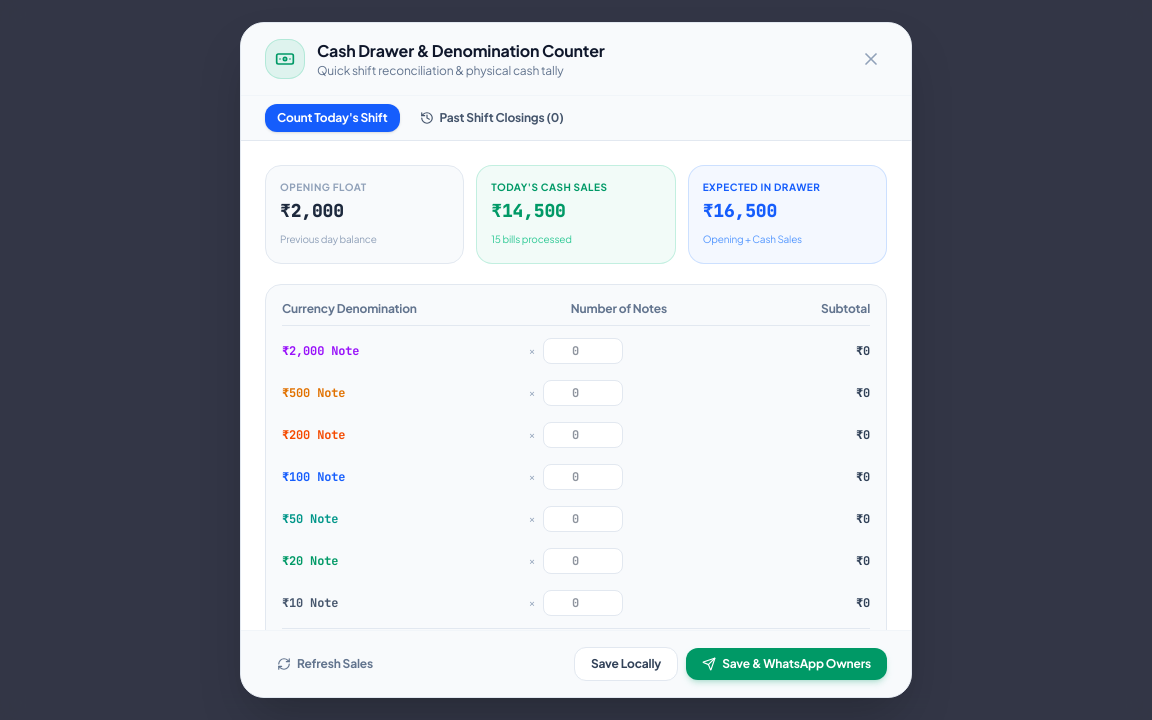
Test: Feature 2: Cash Drawer Denomination Modal › dynamically computes subtotal and physical cash as notes are entered
This screenshot has width=1152, height=720.
In the number field with placeholder "0" in the row of "₹2,000 Note": (583, 351) [543,338,623,364], type "2"
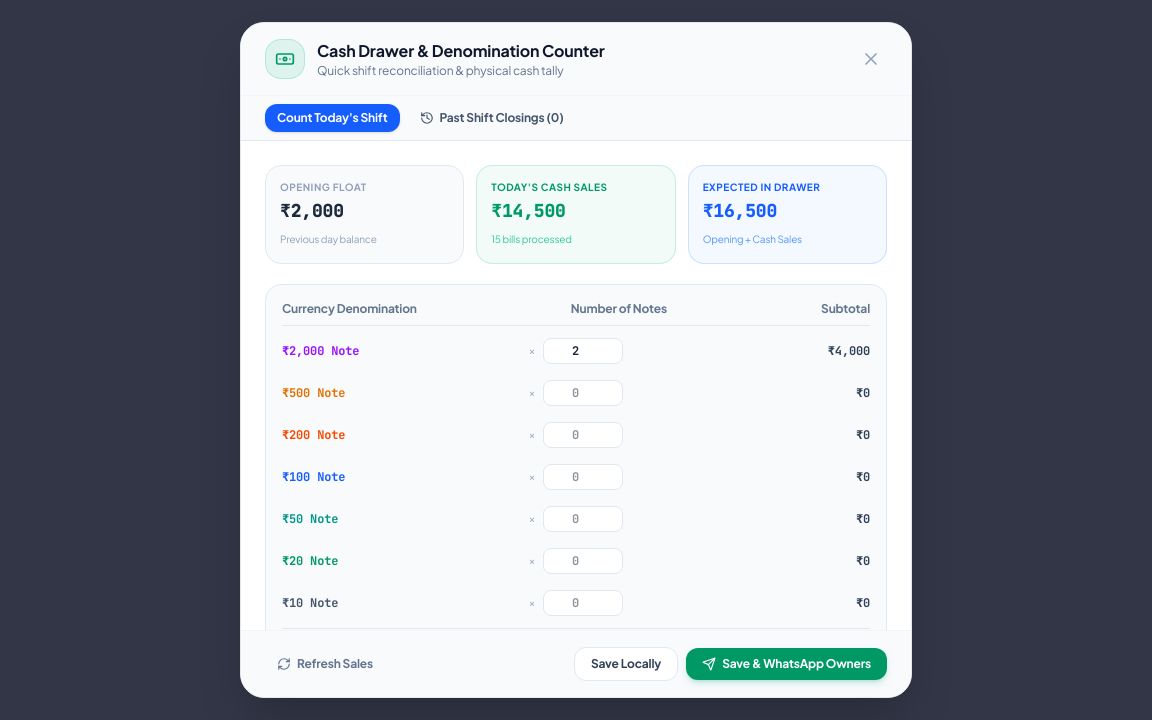
In the number field with placeholder "0" in the row of "₹500 Note": (583, 393) [543,380,623,406], type "4"
(page scrolled)
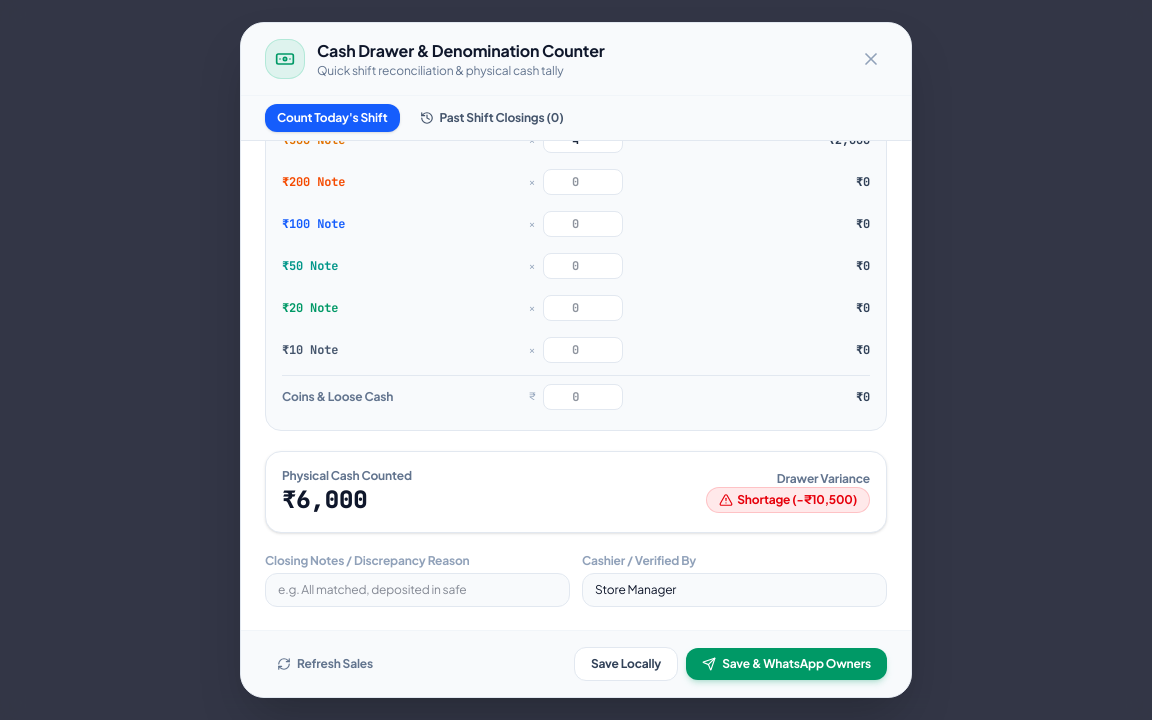
Expected: the text "₹6,000" is shown, [282,484,367,515]
